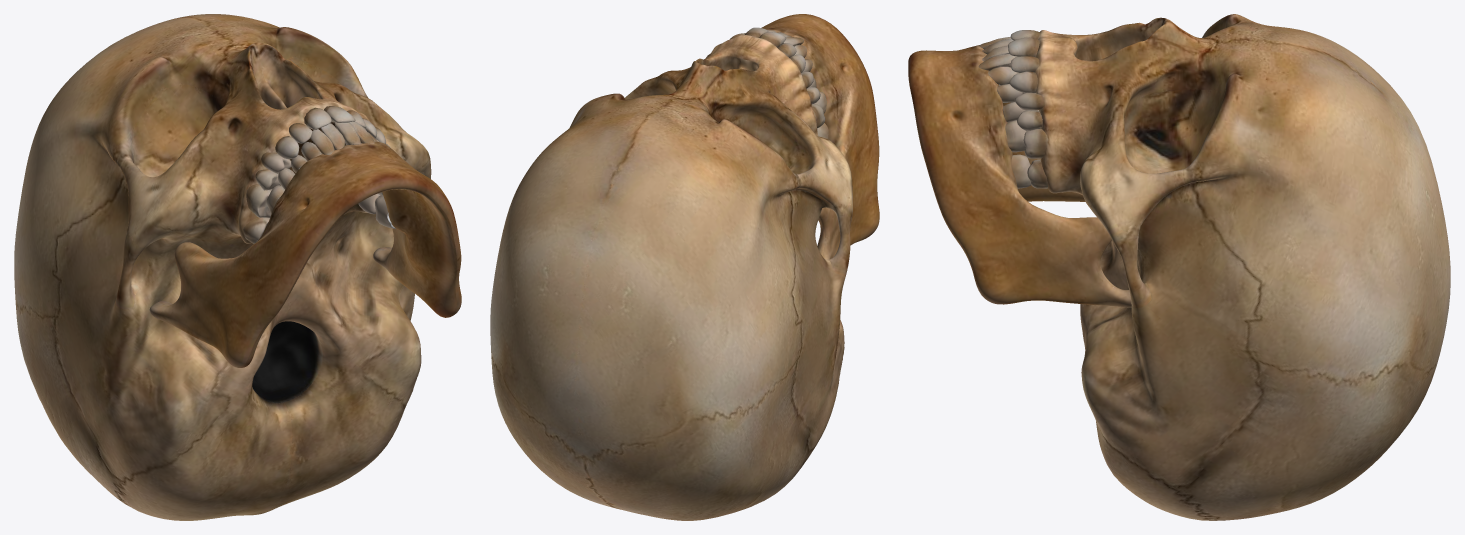
File: skull.glb
3 renders of one model, left to right at view 1: azimuth 30°, elevation 25°; view 2: azimuth 150°, elevation 25°; view 3: azimuth 270°, elevation 25°, orthographic. The views are drawn at different scales.
Visible parts, largest first — view 1: 12140_Skull_v3_L2; view 2: 12140_Skull_v3_L2; view 3: 12140_Skull_v3_L2.
Part boxes in pixels (x1,y1,x2,y2): 12140_Skull_v3_L2: [14, 14, 461, 520]; 12140_Skull_v3_L2: [490, 14, 879, 520]; 12140_Skull_v3_L2: [908, 14, 1450, 520].
Size of the model in its own units: 19.84 by 28.69 by 29.91.
Materials: 1 (1 with a texture image).
